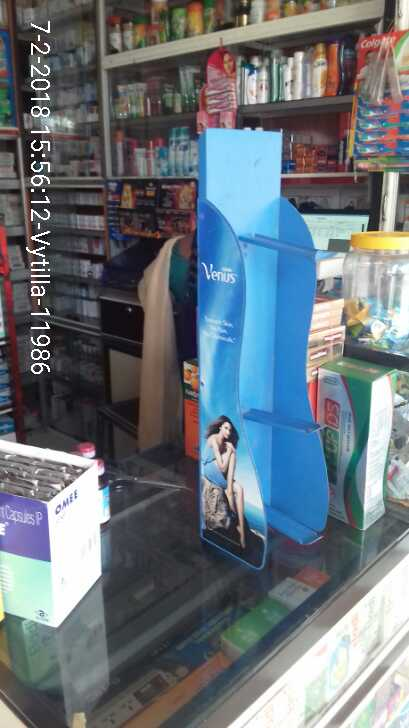reject: (125, 190, 347, 334)
